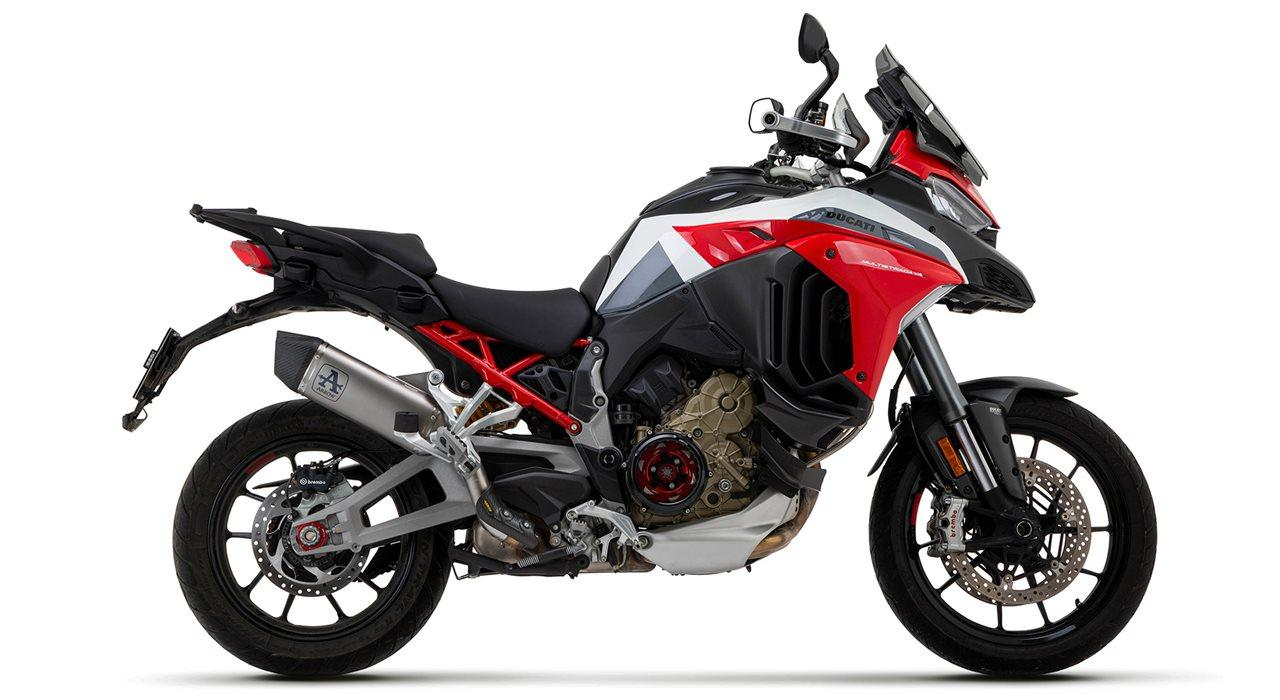engine-chasis: (447, 246, 875, 581), (464, 394, 508, 428), (481, 412, 522, 432), (454, 406, 464, 418)
exhaust: (273, 330, 450, 454), (465, 459, 554, 564), (747, 463, 827, 560), (579, 538, 656, 574)
frontside: (594, 43, 1080, 553)
handlebar: (747, 11, 916, 191)
motorbike: (122, 12, 1159, 678)
rearside: (121, 203, 599, 534), (289, 454, 477, 557)
seat: (310, 226, 611, 357)
tank: (607, 166, 812, 281)
wheel: (867, 390, 1158, 679), (171, 398, 454, 680), (887, 345, 916, 432)
